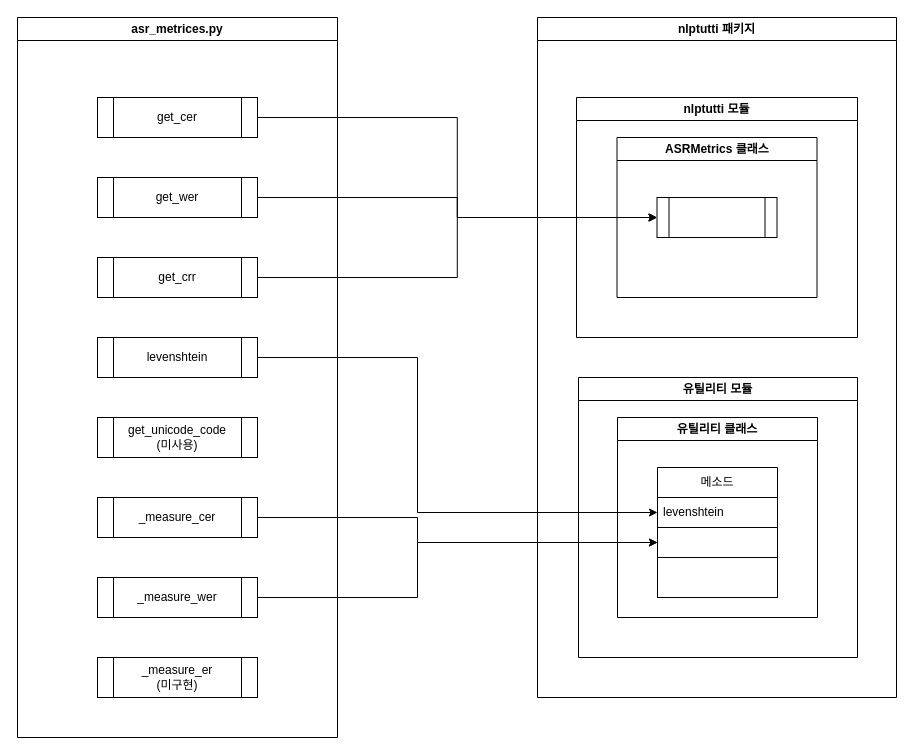
The diagram is 914 pixels wide and 755 high, and some of its shapes have lost their labels. The centre of each missing label's shape, as x and y in pixels:
"get_er" goes at [716,217].
"measure_er" goes at [717,542].
"remove_funtuation (미사용)" goes at [717,577].
